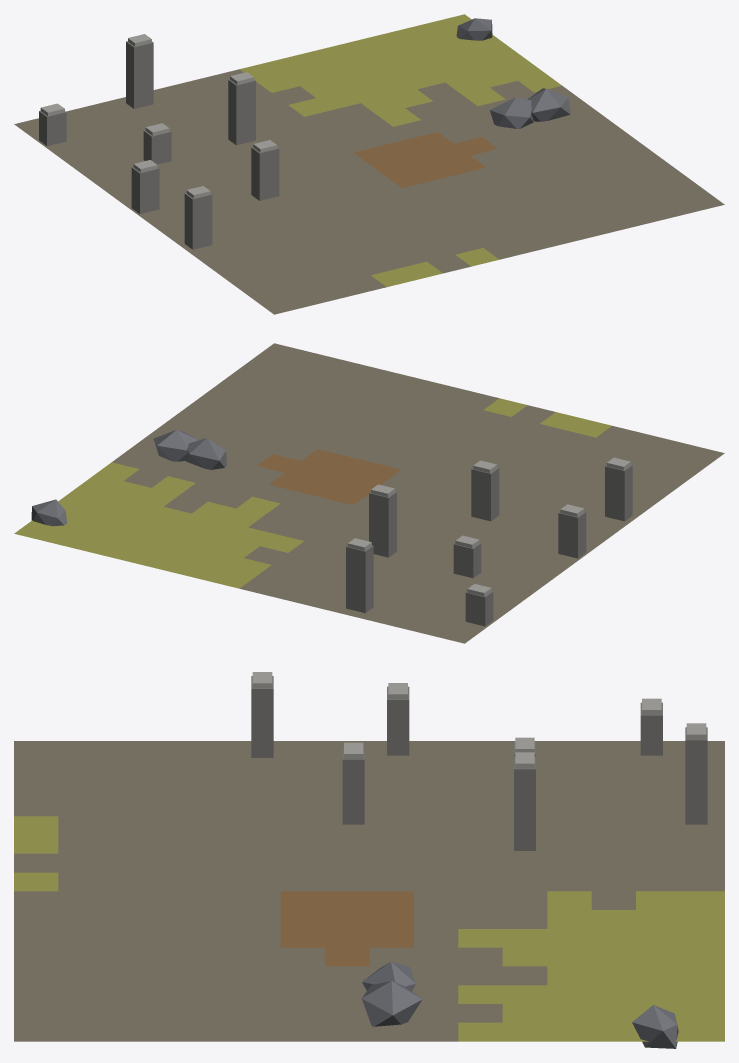
The model's file is chunk_10_17.glb.
3 views of the same model, one above another, from view 1: azimuth 30°, elevation 25°; view 2: azimuth 150°, elevation 25°; view 3: azimuth 270°, elevation 25° (orthographic). The views are drawn at different scales.
Visible parts, largest first — view 1: chunk_10_17; view 2: chunk_10_17; view 3: chunk_10_17.
Boxes of the visible parts, x1=… form: chunk_10_17: x1=14, y1=14, x2=724, y2=314; chunk_10_17: x1=14, y1=343, x2=724, y2=643; chunk_10_17: x1=14, y1=672, x2=724, y2=1048.
Bounding box in the file's own units: 16.16 × 2.68 × 16.
